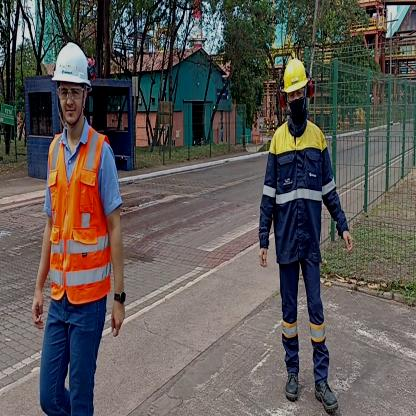Balaclava: (287, 85, 308, 126)
C_eletrica: (261, 120, 344, 261)
Capacete: (53, 39, 93, 83), (279, 53, 311, 90)
colete: (40, 127, 115, 312)
